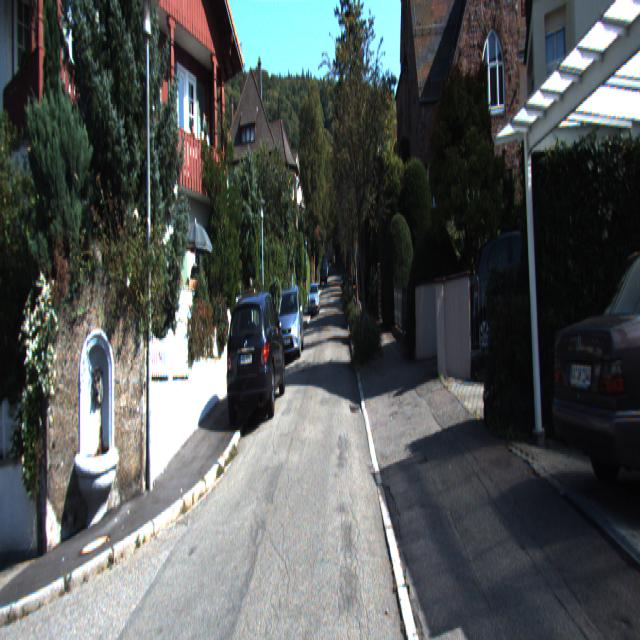Car: (556, 208, 640, 528), (226, 282, 286, 426), (276, 284, 304, 358), (308, 282, 320, 315)
